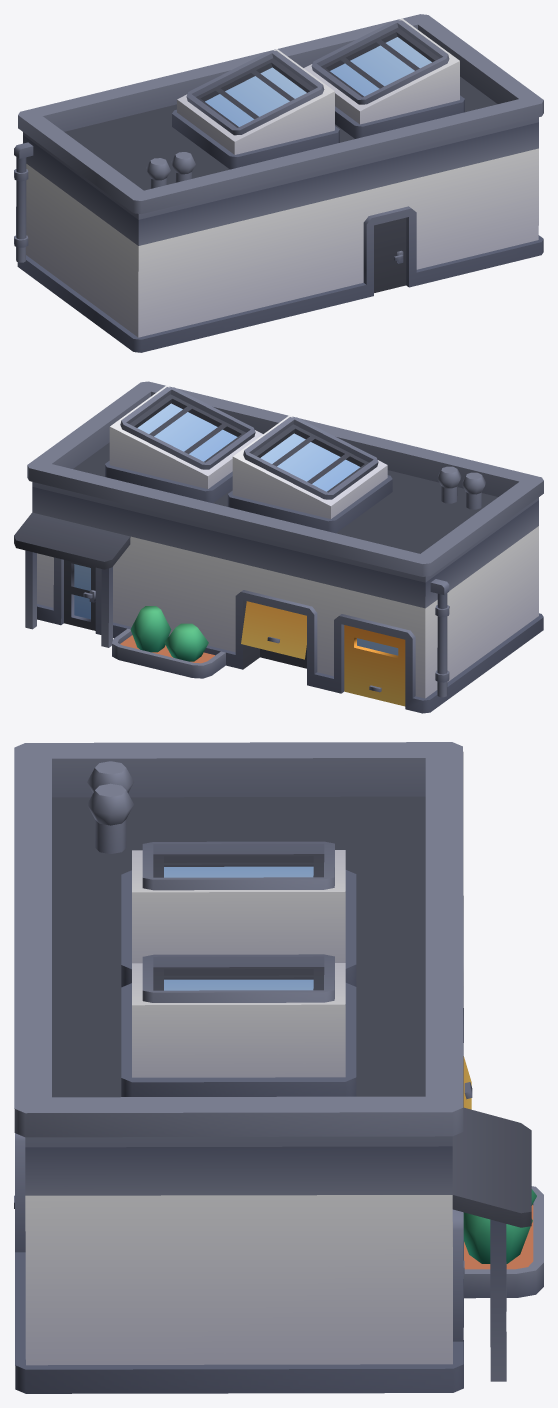
Rendered from building-p_lev1.glb.
3 renders of one model, top to bottom at view 1: azimuth 30°, elevation 25°; view 2: azimuth 150°, elevation 25°; view 3: azimuth 270°, elevation 25°, orthographic. The views are drawn at different scales.
Parts seen in each view (by area): view 1: building-p_lev1; view 2: building-p_lev1; view 3: building-p_lev1.
Part boxes in pixels (<box>): building-p_lev1: <box>14,14,543,352</box>; building-p_lev1: <box>14,381,543,713</box>; building-p_lev1: <box>14,742,543,1393</box>.
Size of the model in its own units: 1.68 by 0.7159 by 0.9923.
1 material, 1 textured.
